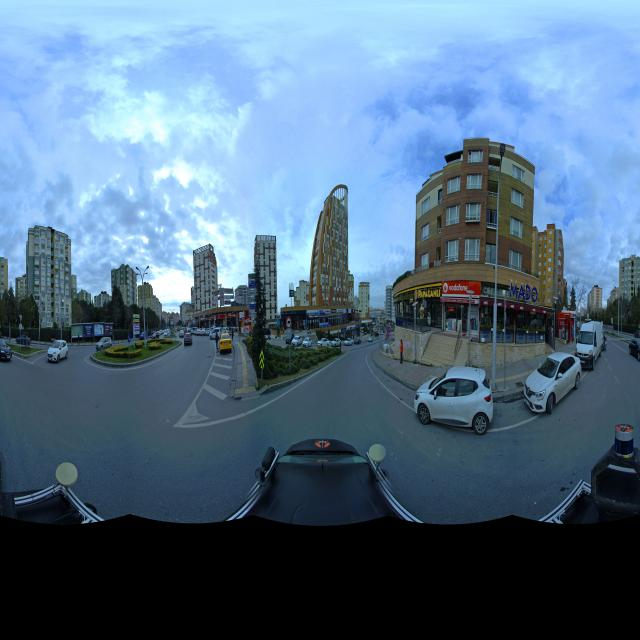SignStore: (508, 278, 539, 304), (441, 282, 481, 296), (418, 287, 441, 299), (281, 311, 297, 315), (306, 311, 319, 315), (347, 325, 355, 331), (216, 314, 225, 319), (227, 313, 236, 318), (343, 309, 352, 313), (325, 309, 331, 313), (331, 309, 337, 313), (353, 310, 358, 314), (339, 309, 343, 313), (210, 316, 214, 320), (319, 310, 324, 313), (365, 322, 369, 325), (206, 317, 209, 321), (203, 317, 205, 321), (337, 309, 338, 312)
